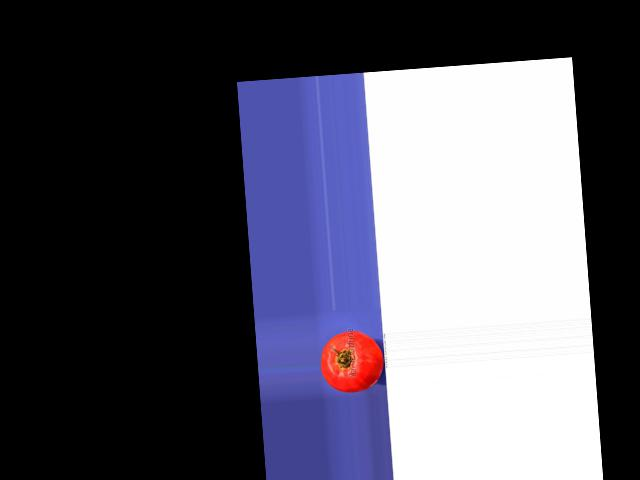tomato: (318, 329, 384, 395)
